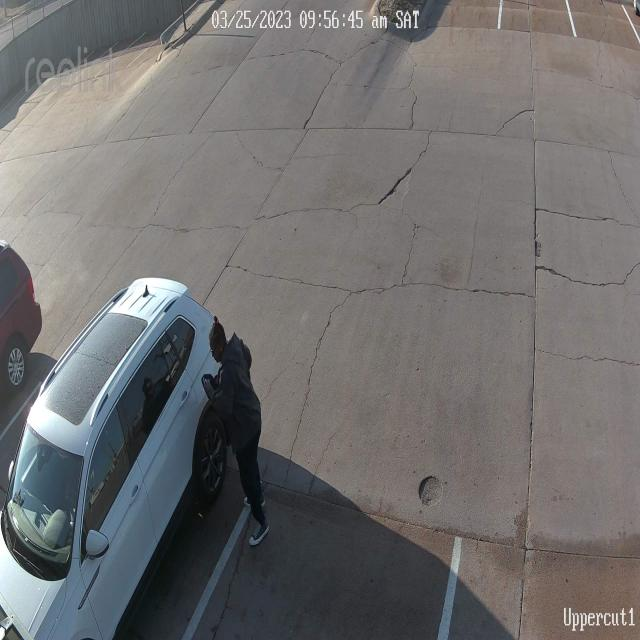Car: (0, 241, 44, 408)
Empty-slot: (192, 431, 475, 636), (444, 444, 640, 640), (572, 0, 640, 80)
Person: (204, 334, 269, 547)
Slot-Occupied: (5, 271, 226, 640)
